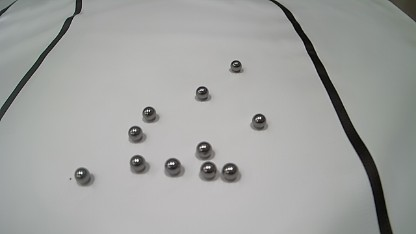ironball: (221, 162, 239, 181), (164, 157, 181, 176), (200, 161, 217, 180), (130, 155, 146, 172), (74, 167, 90, 184), (196, 141, 212, 158), (128, 125, 143, 141), (252, 113, 266, 129), (142, 106, 156, 121), (195, 86, 208, 100), (230, 60, 242, 72)
